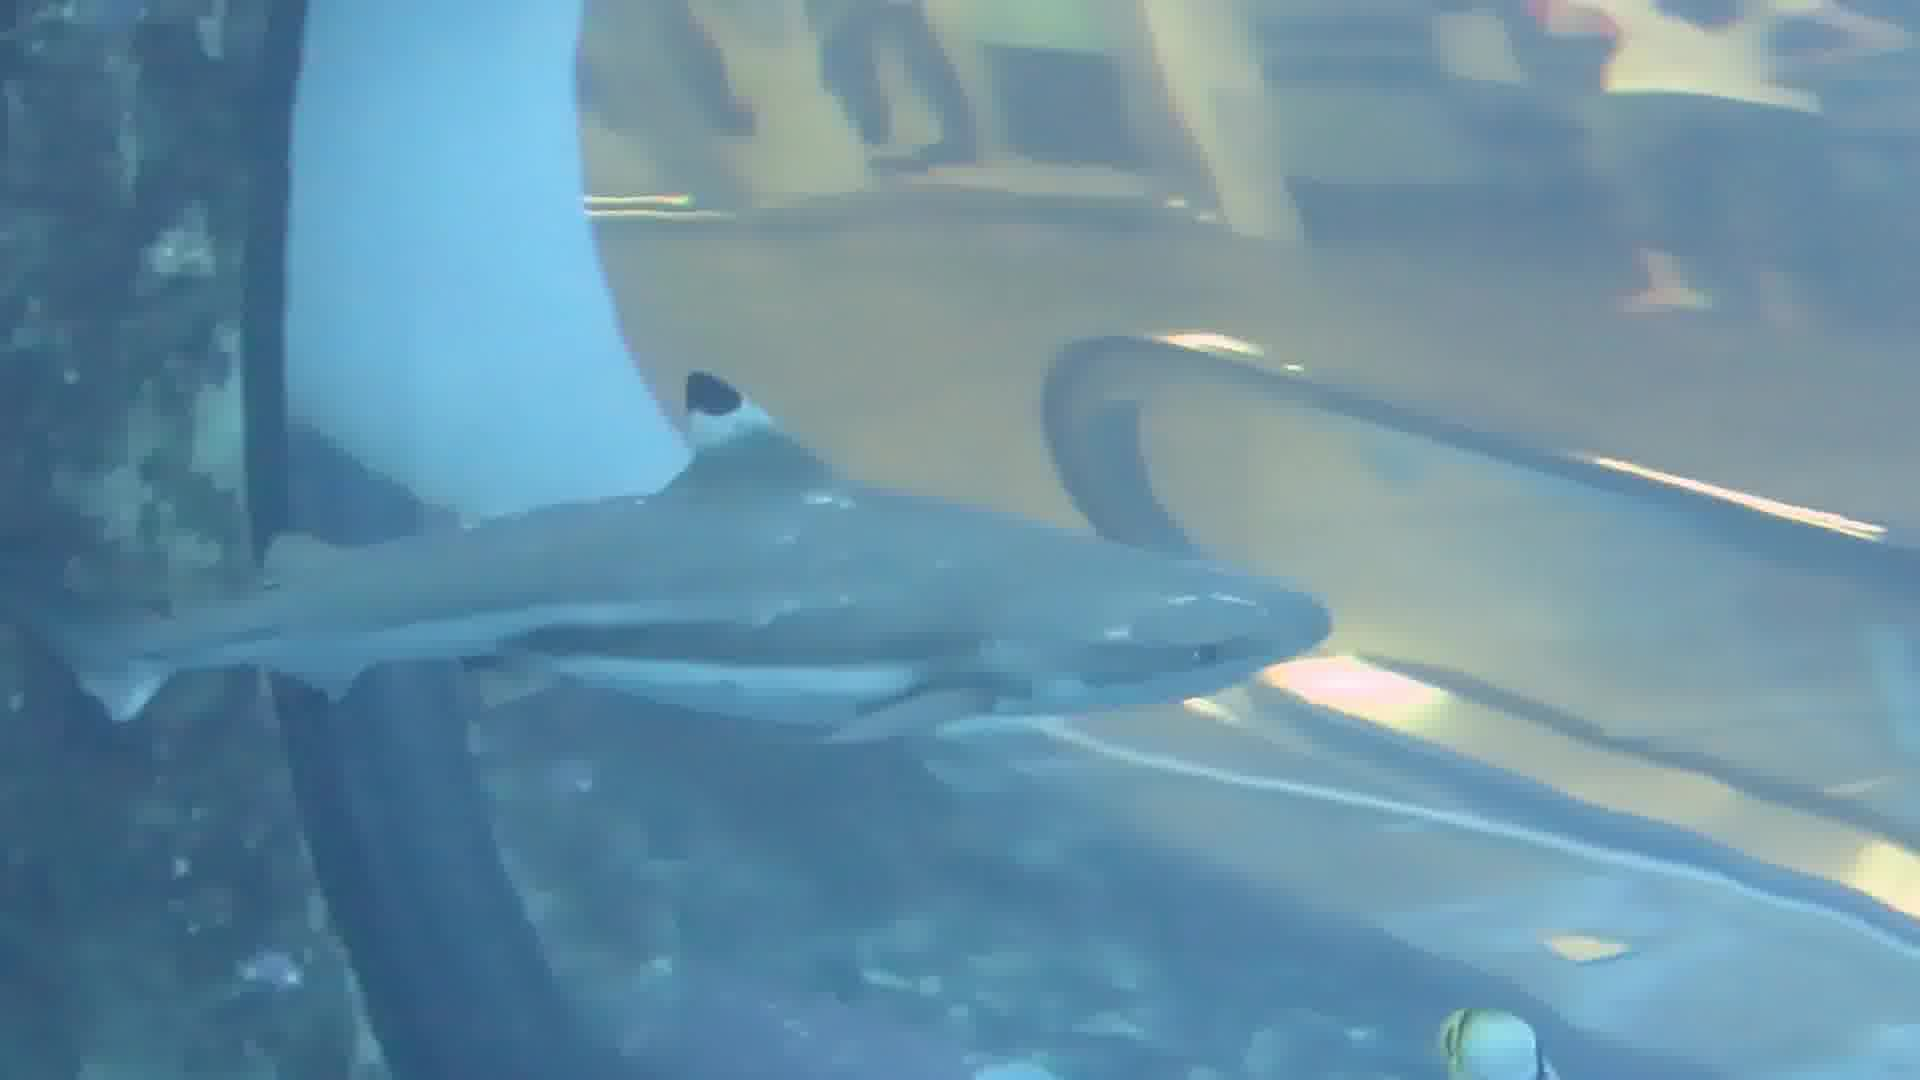Carcharhinus melanopterus: (15, 345, 1393, 808)
